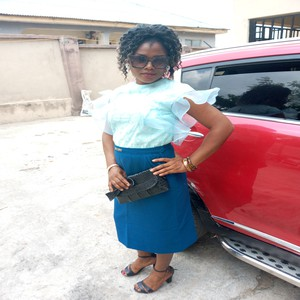Fulokoja_female_student: (111, 25, 194, 294)
